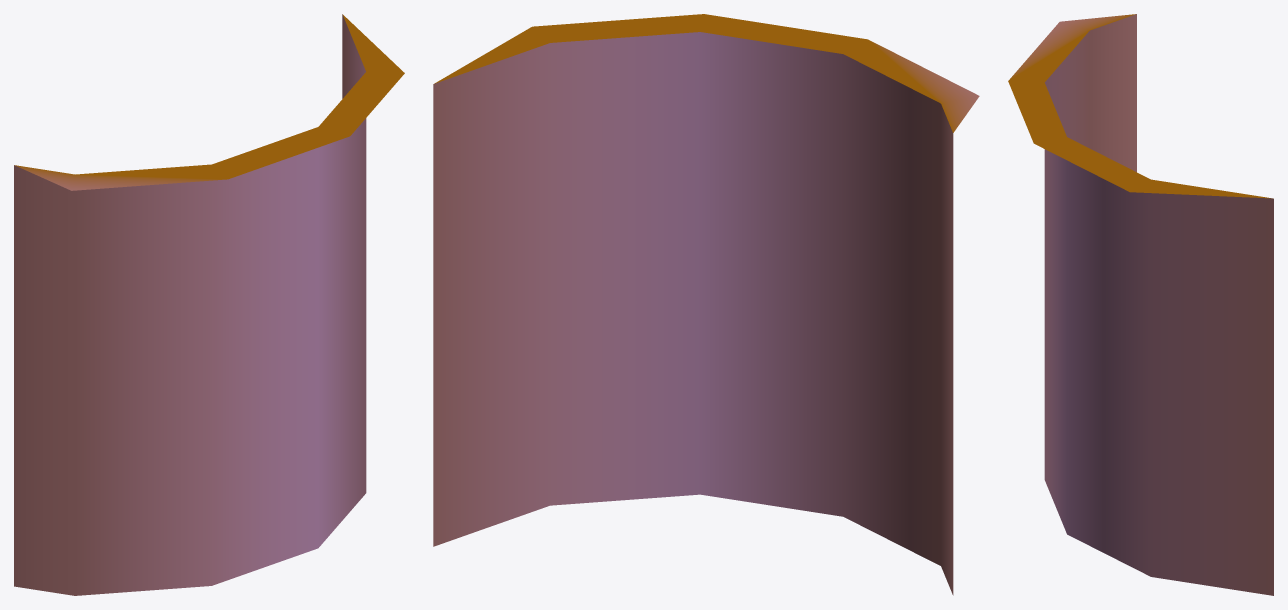
The model's file is ClothingBuildingFish.glb.
The picture shows the model from 3 angles, left to right: view 1: azimuth 30°, elevation 25°; view 2: azimuth 150°, elevation 25°; view 3: azimuth 270°, elevation 25°; orthographic projection. The views are drawn at different scales.
Visible parts, largest first — view 1: ClothingBuildingFish; view 2: ClothingBuildingFish; view 3: ClothingBuildingFish.
Part boxes in pixels (left/top/right/bottom): ClothingBuildingFish: left=14, top=14, right=404, bottom=595; ClothingBuildingFish: left=433, top=14, right=979, bottom=595; ClothingBuildingFish: left=1008, top=14, right=1273, bottom=595.
Size of the model in its own units: 1.64 by 1.65 by 1.
